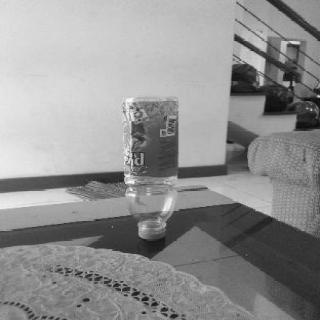plastic_bottles: (116, 93, 185, 242)
